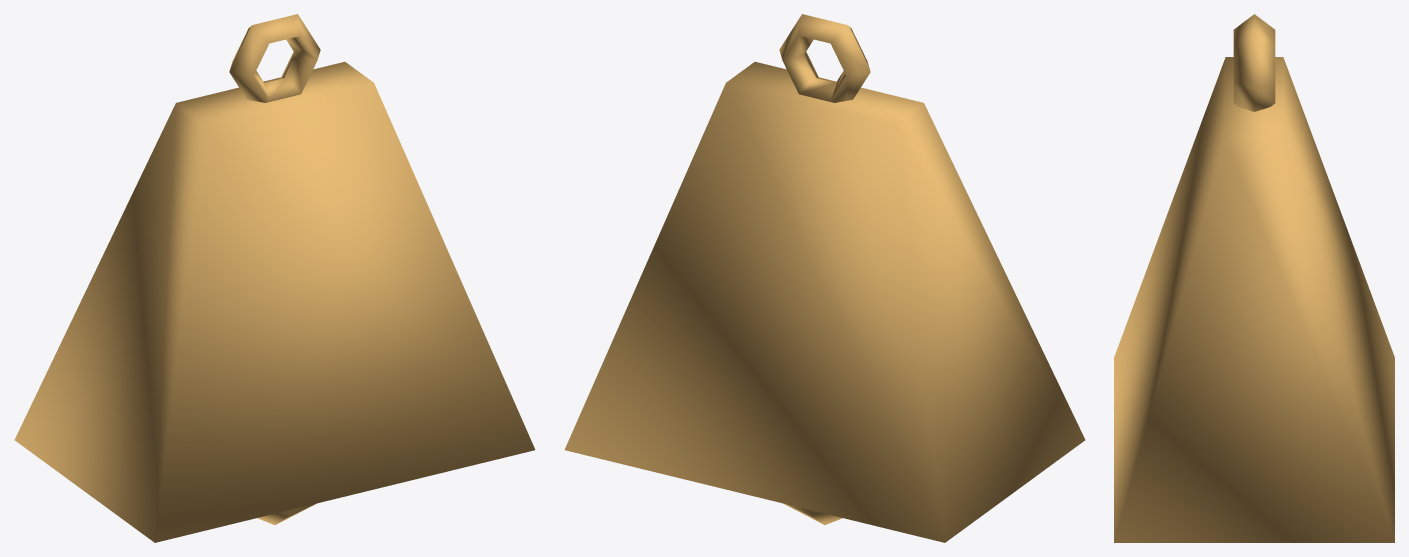
Rendered from cowbell.glb.
3 renders of one model, left to right at view 1: azimuth 30°, elevation 25°; view 2: azimuth 150°, elevation 25°; view 3: azimuth 270°, elevation 25°, orthographic.
Parts seen in each view (by area): view 1: Cube, Torus; view 2: Cube, Torus; view 3: Cube, Torus.
Boxes of the visible parts, x1,y1,x2,y2 form: Cube: (14,61,535,542); Torus: (229,14,320,102); Cube: (564,61,1085,542); Torus: (779,14,870,102); Cube: (1114,57,1394,542); Torus: (1233,14,1275,111).
Size of the model in its own units: 0.2862 by 0.3635 by 0.1831.
